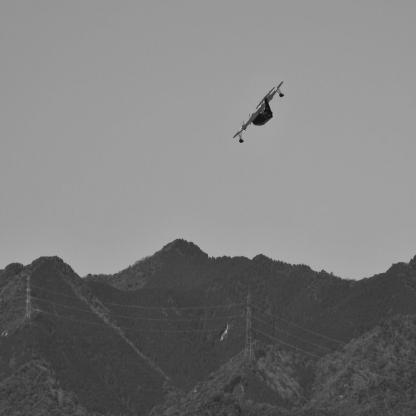US2: (234, 82, 285, 145)
